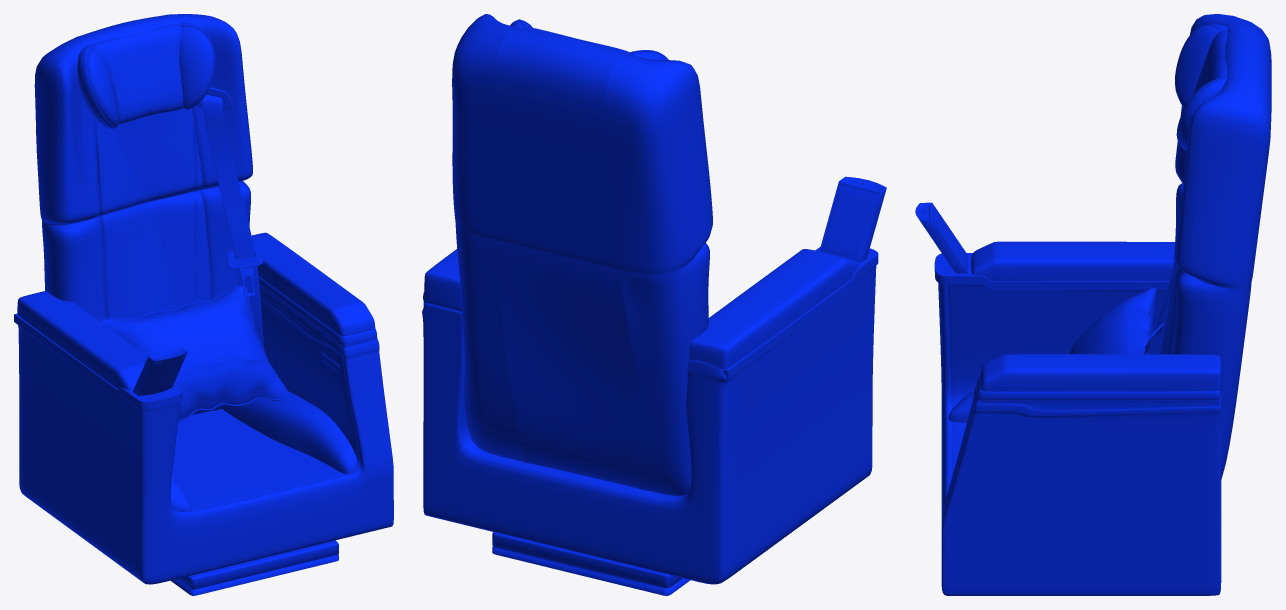
The model's file is chair_middle_left.fbx.
3 renders of one model, left to right at view 1: azimuth 30°, elevation 25°; view 2: azimuth 150°, elevation 25°; view 3: azimuth 270°, elevation 25°, orthographic. The views are drawn at different scales.
Parts seen in each view (by area): view 1: ZuoYi_M_L_2, ZuoYi_M_L_4, ZuoYi_M_L_5, ZuoYi_M_L_3, ZuoYi_M_L_1; view 2: ZuoYi_M_L_4, ZuoYi_M_L_2, ZuoYi_M_L_3, ZuoYi_M_L_1; view 3: ZuoYi_M_L_2, ZuoYi_M_L_4, ZuoYi_M_L_5, ZuoYi_M_L_1.
Boxes of the visible parts, x1=… form: ZuoYi_M_L_2: x1=14, y1=232, x2=393, y2=584; ZuoYi_M_L_4: x1=34, y1=14, x2=264, y2=414; ZuoYi_M_L_5: x1=99, y1=285, x2=287, y2=421; ZuoYi_M_L_3: x1=171, y1=540, x2=338, y2=595; ZuoYi_M_L_1: x1=132, y1=347, x2=187, y2=395; ZuoYi_M_L_4: x1=452, y1=14, x2=712, y2=495; ZuoYi_M_L_2: x1=422, y1=247, x2=878, y2=584; ZuoYi_M_L_3: x1=492, y1=532, x2=690, y2=595; ZuoYi_M_L_1: x1=819, y1=176, x2=886, y2=262; ZuoYi_M_L_2: x1=934, y1=241, x2=1221, y2=595; ZuoYi_M_L_4: x1=1143, y1=14, x2=1271, y2=479; ZuoYi_M_L_5: x1=1069, y1=286, x2=1156, y2=354; ZuoYi_M_L_1: x1=915, y1=202, x2=968, y2=273.
Bounding box in the file's own units: 55.49 × 95.2 × 60.9.
